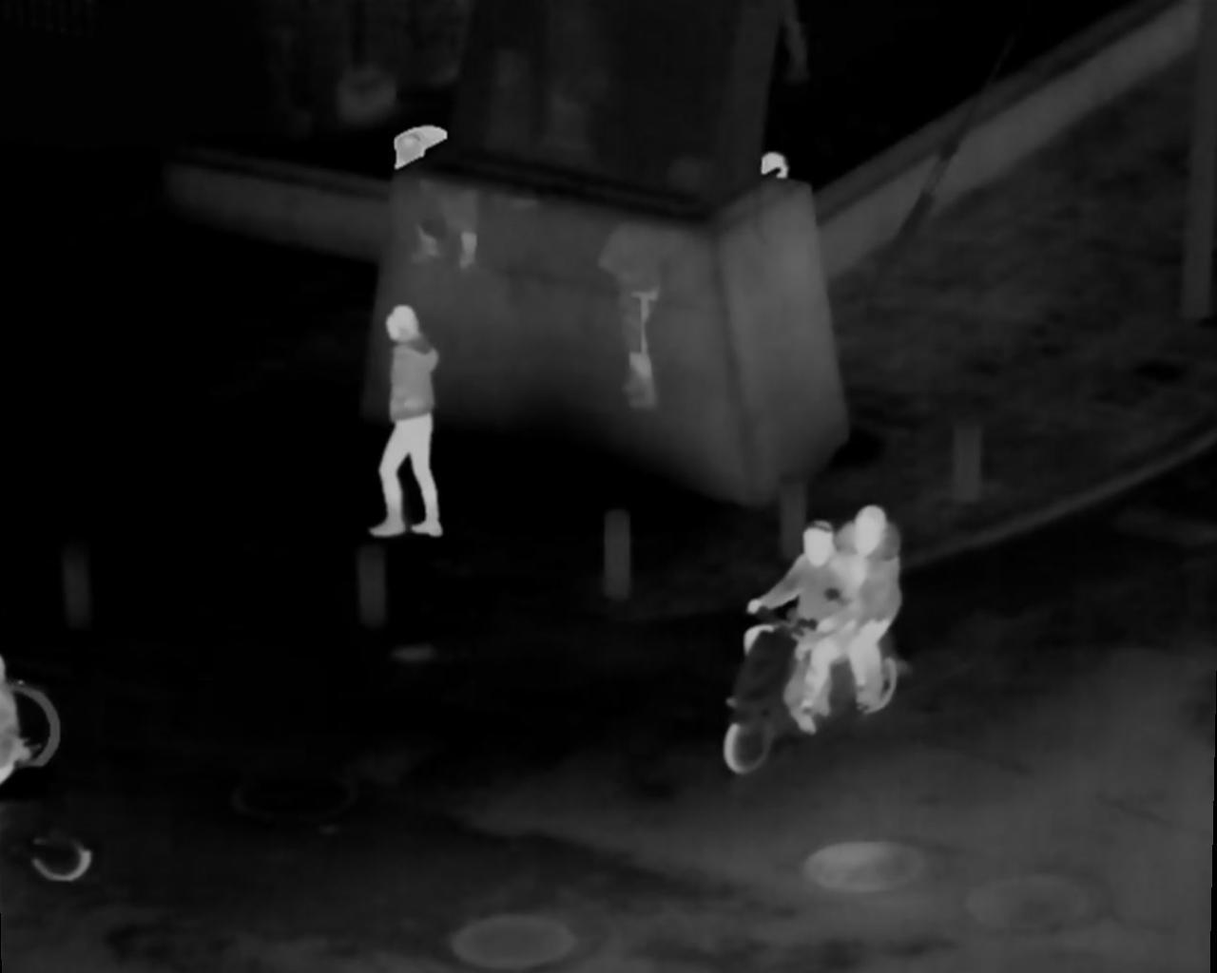person: (366, 305, 448, 541), (826, 503, 914, 712), (776, 512, 855, 740)
